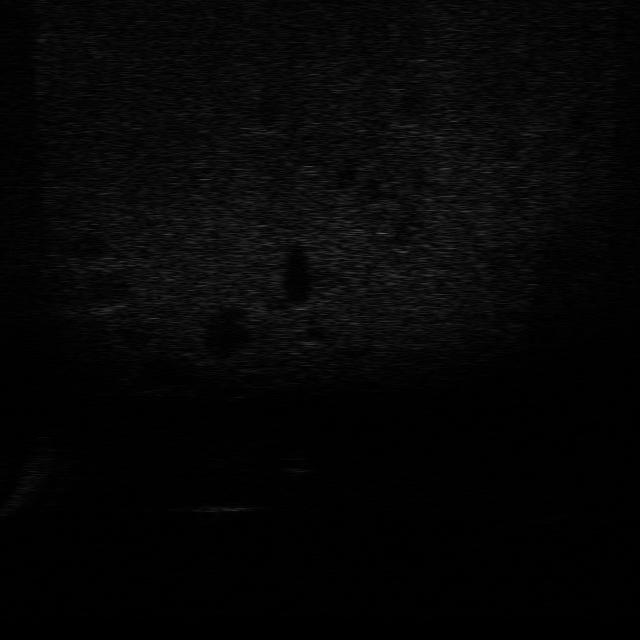ball: (271, 448, 315, 480)
square cage: (188, 491, 258, 523)
tyre: (516, 492, 574, 526)
